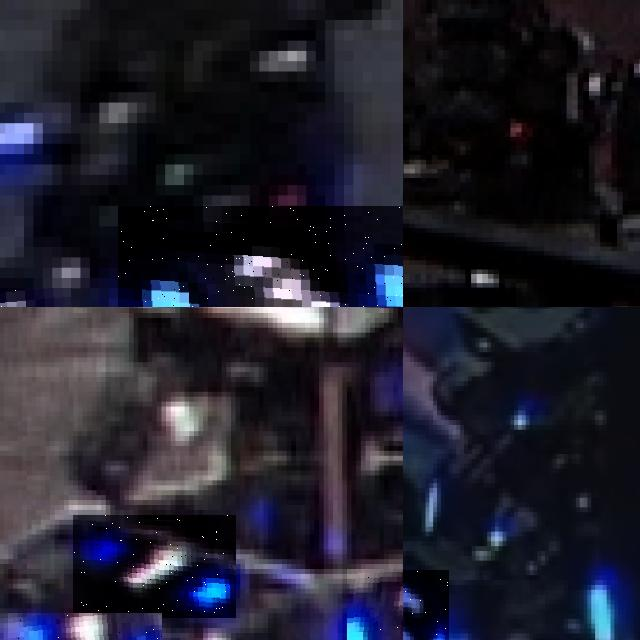B1: (73, 515, 236, 618), (8, 613, 161, 640), (346, 569, 403, 640)
B3: (118, 206, 403, 307)
B5: (403, 570, 448, 640)
